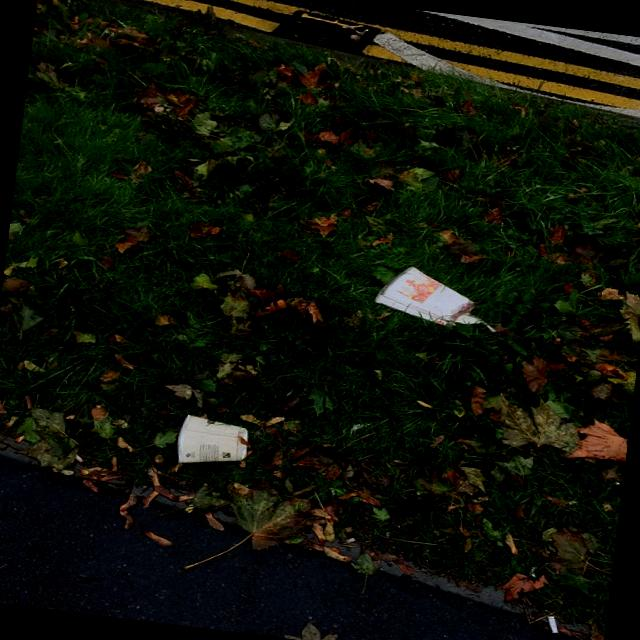Trash: (372, 260, 492, 334), (176, 414, 254, 471)
